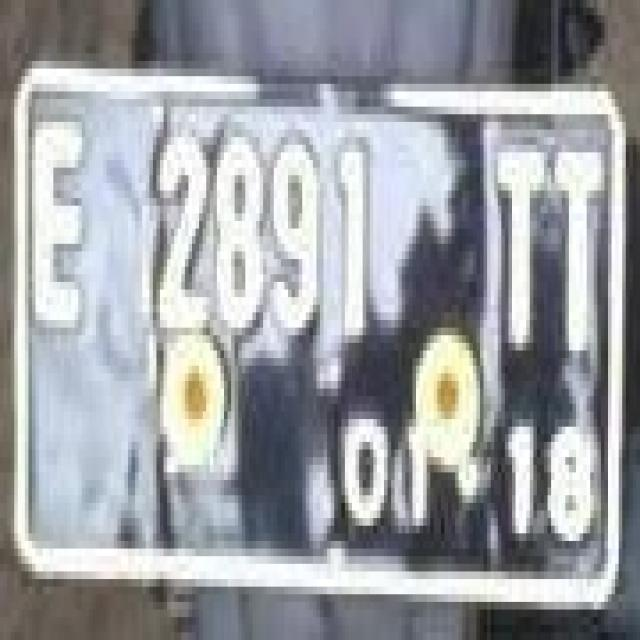plate: (7, 46, 622, 602)
